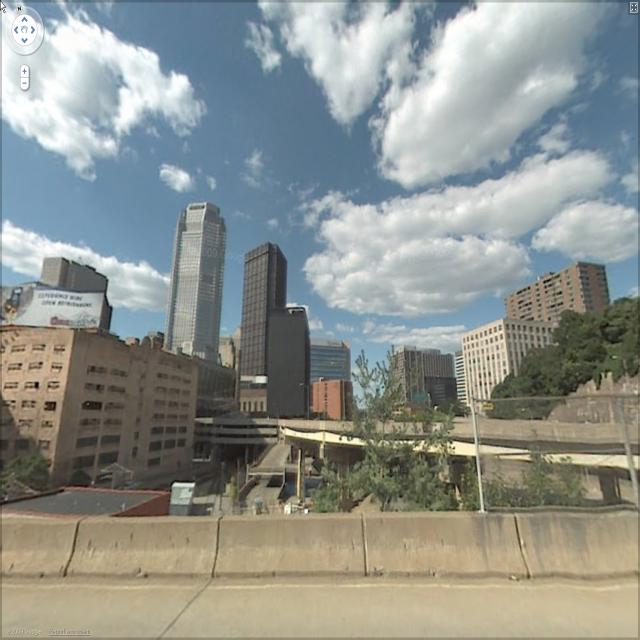b_1: (0, 339, 196, 492), (168, 201, 228, 365), (263, 313, 315, 424), (238, 233, 278, 371), (308, 327, 358, 379)
b_2: (501, 252, 628, 373), (458, 316, 564, 420), (388, 340, 462, 425), (308, 379, 362, 458), (448, 344, 470, 415)
